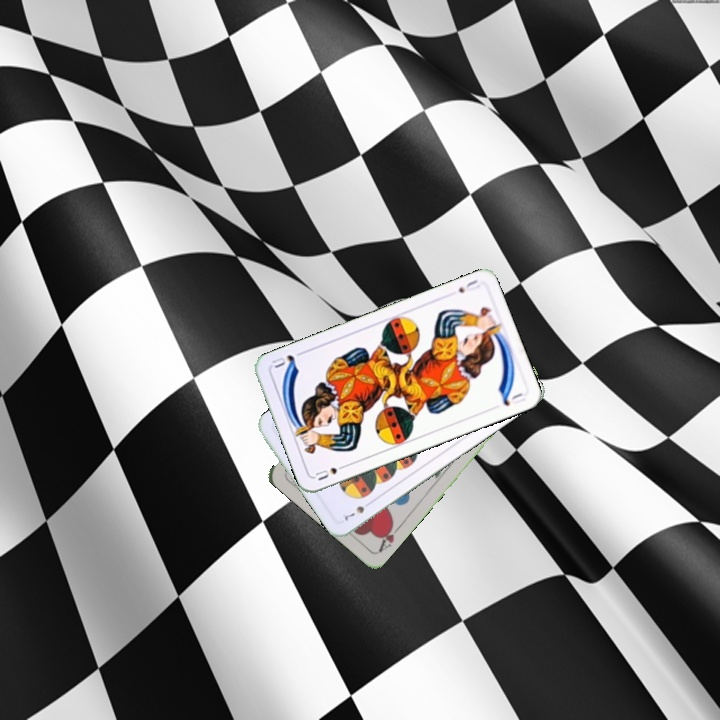HA: (374, 518, 404, 556)
S7: (340, 497, 375, 523)
SU: (311, 460, 350, 483), (454, 275, 482, 295)
